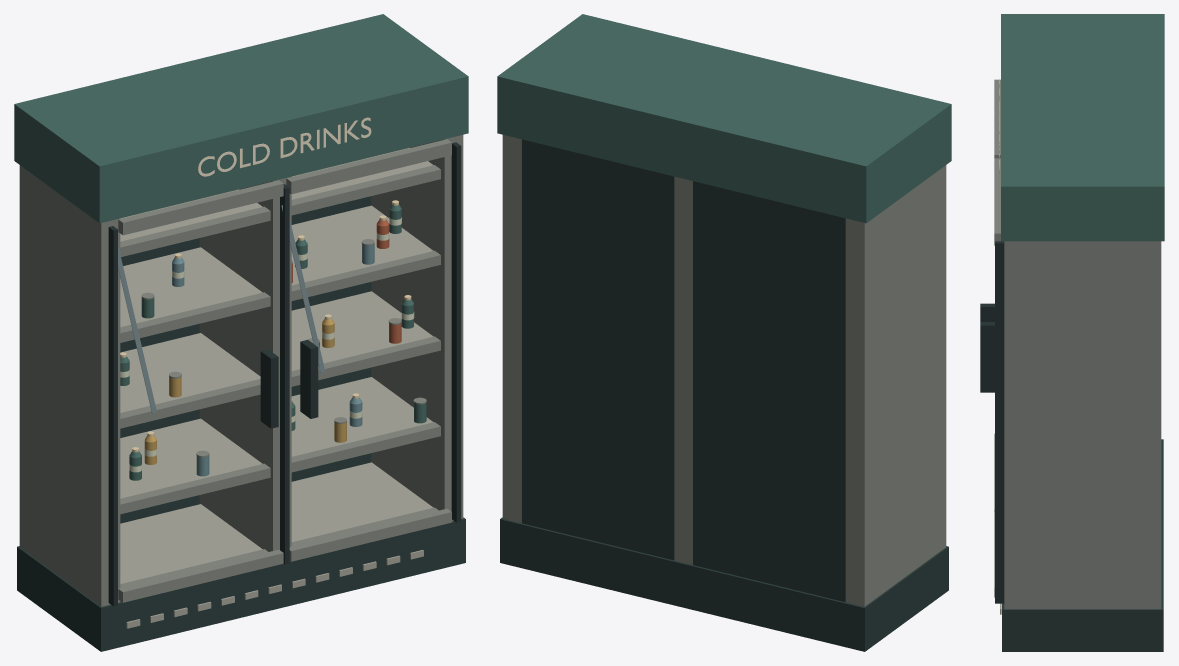
The model's file is dead_drink_cooler.glb.
The picture shows the model from 3 angles, left to right: view 1: azimuth 30°, elevation 25°; view 2: azimuth 150°, elevation 25°; view 3: azimuth 270°, elevation 25°; orthographic projection. The views are drawn at different scales.
Visible parts, largest first — view 1: Upper cooler canopy, Door stile, Louvered kick plate, Door stile.002, Door stile.001, Shelf deck, Shelf deck.003, Shelf deck.001, Shelf deck.002, Back of cooler cabinet, Shelf rail.001, Shelf rail.004 (+16 smaller); view 2: Back of cooler cabinet, Upper cooler canopy, Door stile, Louvered kick plate, Door stile.002, Door stile.001; view 3: Door stile.002, Upper cooler canopy, Louvered kick plate, Gasket.002, Door pull.001, Door top rail.001, Door top rail, Door pull.
Boxes of the visible parts, x1,y1,x2,y2 form: Upper cooler canopy: [14, 14, 468, 223]; Door stile: [19, 165, 120, 606]; Louvered kick plate: [17, 517, 465, 651]; Door stile.002: [371, 135, 463, 521]; Door stile.001: [199, 176, 291, 551]; Shelf deck: [120, 462, 433, 583]; Shelf deck.003: [120, 205, 433, 327]; Shelf deck.001: [120, 377, 433, 498]; Shelf deck.002: [120, 291, 433, 412]; Back of cooler cabinet: [120, 196, 371, 523]; Shelf rail.001: [120, 422, 440, 514]; Shelf rail.004: [120, 165, 440, 256]; Back of cooler cabinet: [521, 139, 845, 602]; Upper cooler canopy: [497, 14, 951, 223]; Door stile: [845, 165, 946, 606]; Louvered kick plate: [500, 517, 948, 651]; Door stile.002: [502, 135, 521, 523]; Door stile.001: [674, 176, 692, 564]; Door stile.002: [1004, 241, 1161, 609]; Upper cooler canopy: [1001, 14, 1164, 241]; Louvered kick plate: [1002, 439, 1163, 651]; Gasket.002: [995, 241, 1004, 603]; Door pull.001: [980, 322, 994, 392]; Door top rail.001: [994, 158, 1000, 245]; Door top rail: [994, 79, 1000, 158]; Door pull: [980, 303, 994, 321].
Bounding box in the file's own units: 1.75 × 2.2 × 0.7885.
